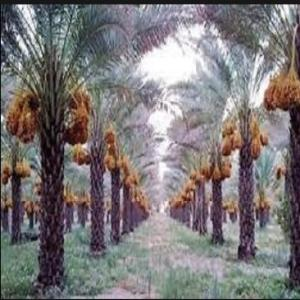palm tree: (261, 5, 299, 290)
